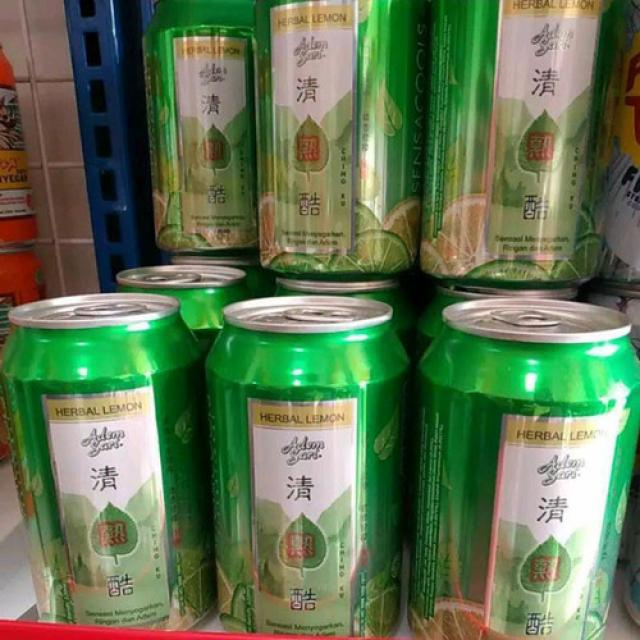ademsarikaleng: (408, 296, 639, 638), (203, 292, 410, 637)
